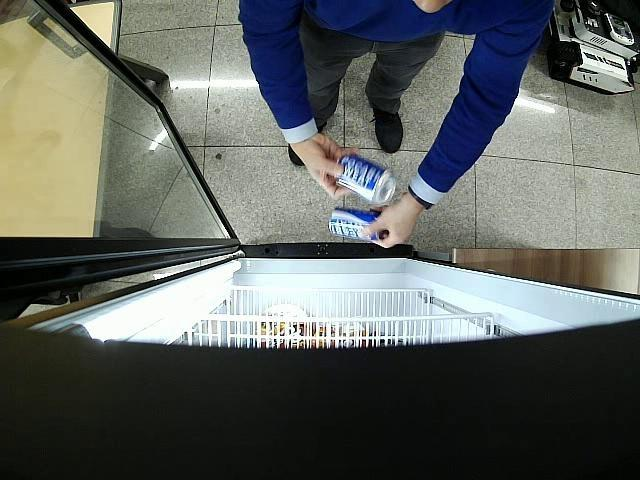13_pocariSweat: (336, 156, 396, 200), (329, 207, 382, 240)
